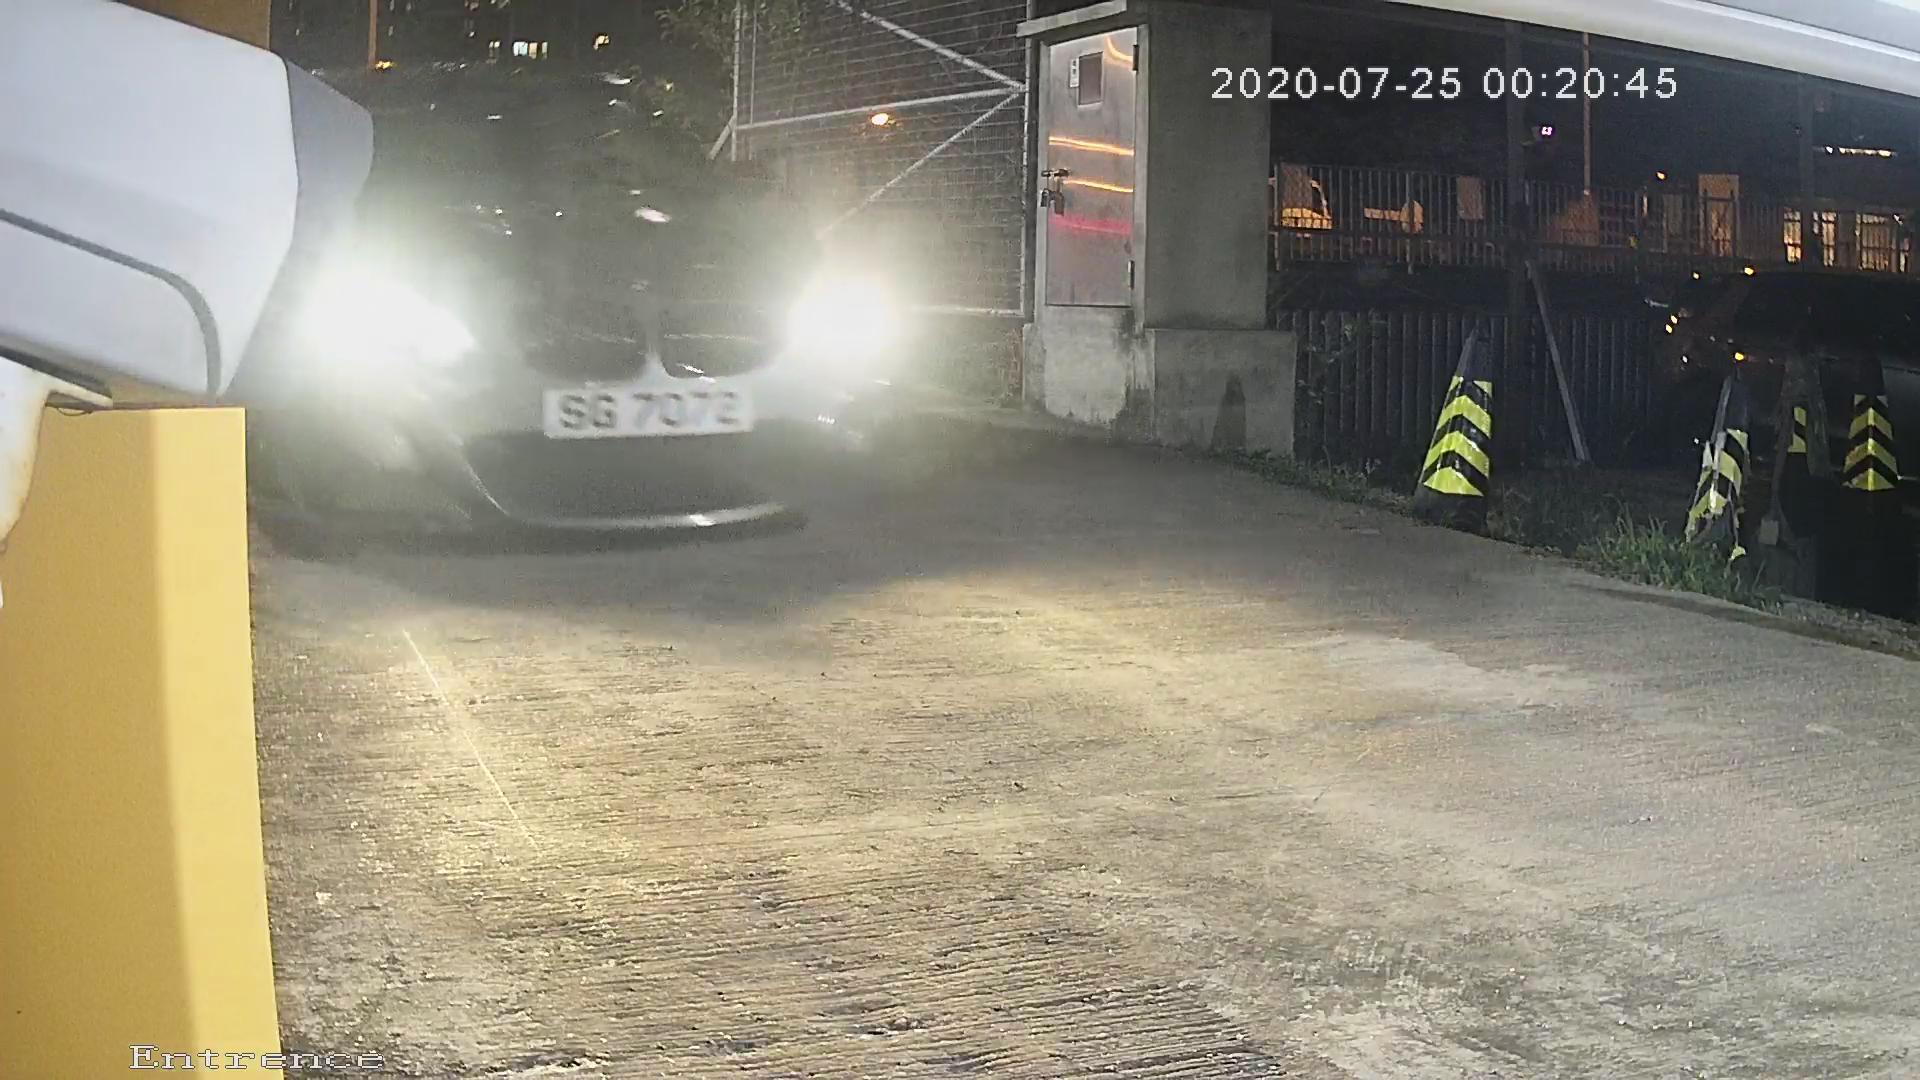License Plate: (536, 366, 779, 456)
